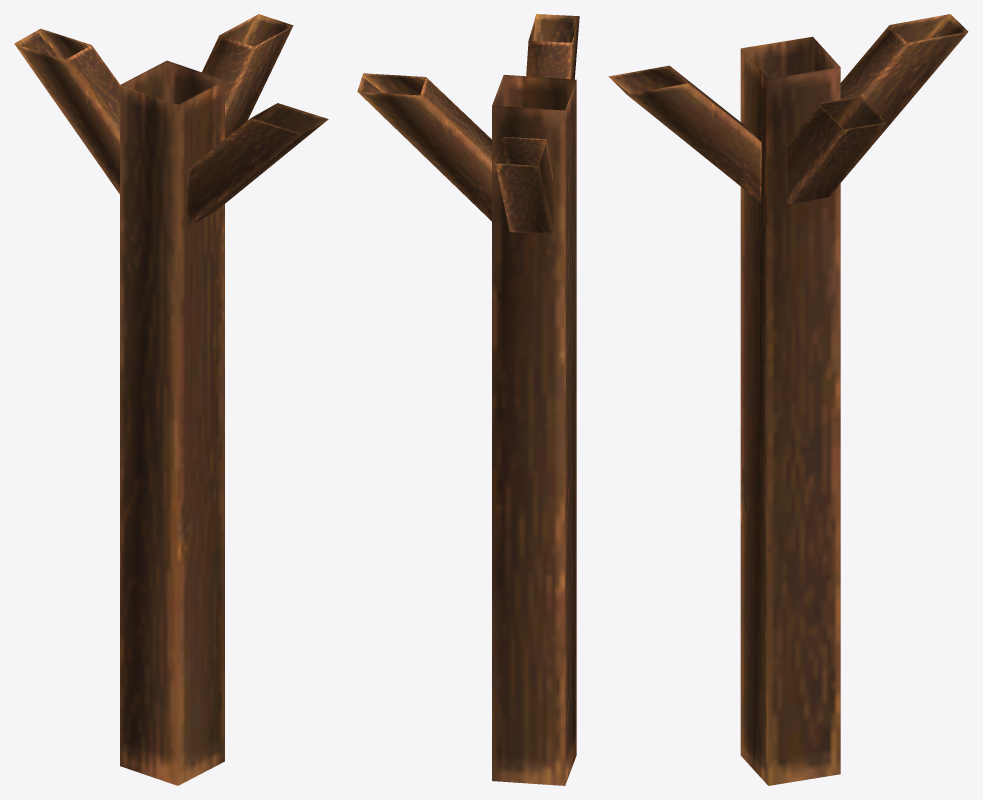
Rendered from SWORDLIGHT20_JAILPLATSUPPORT59.fbx.
The picture shows the model from 3 angles, left to right: view 1: azimuth 30°, elevation 25°; view 2: azimuth 150°, elevation 25°; view 3: azimuth 270°, elevation 25°; orthographic projection. The views are drawn at different scales.
Parts seen in each view (by area): view 1: SWORDLIGHT20_JAILPLATSUPPORT59; view 2: SWORDLIGHT20_JAILPLATSUPPORT59; view 3: SWORDLIGHT20_JAILPLATSUPPORT59.
Part boxes in pixels (x1,y1,x2,y2): SWORDLIGHT20_JAILPLATSUPPORT59: (14,14,328,785); SWORDLIGHT20_JAILPLATSUPPORT59: (357,14,579,785); SWORDLIGHT20_JAILPLATSUPPORT59: (608,14,968,785).
Bounding box in the file's own units: 14129 × 40457 × 18605.
1 material, 1 textured.
